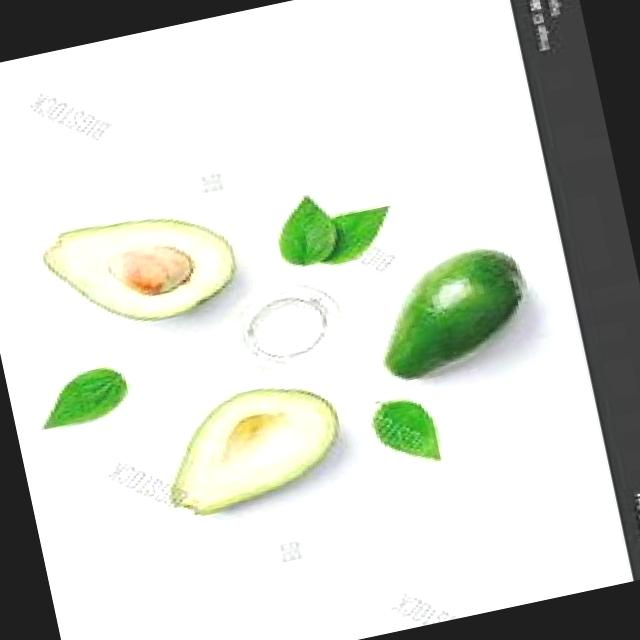avocado: (32, 178, 244, 348), (159, 368, 352, 522), (362, 237, 540, 385)
